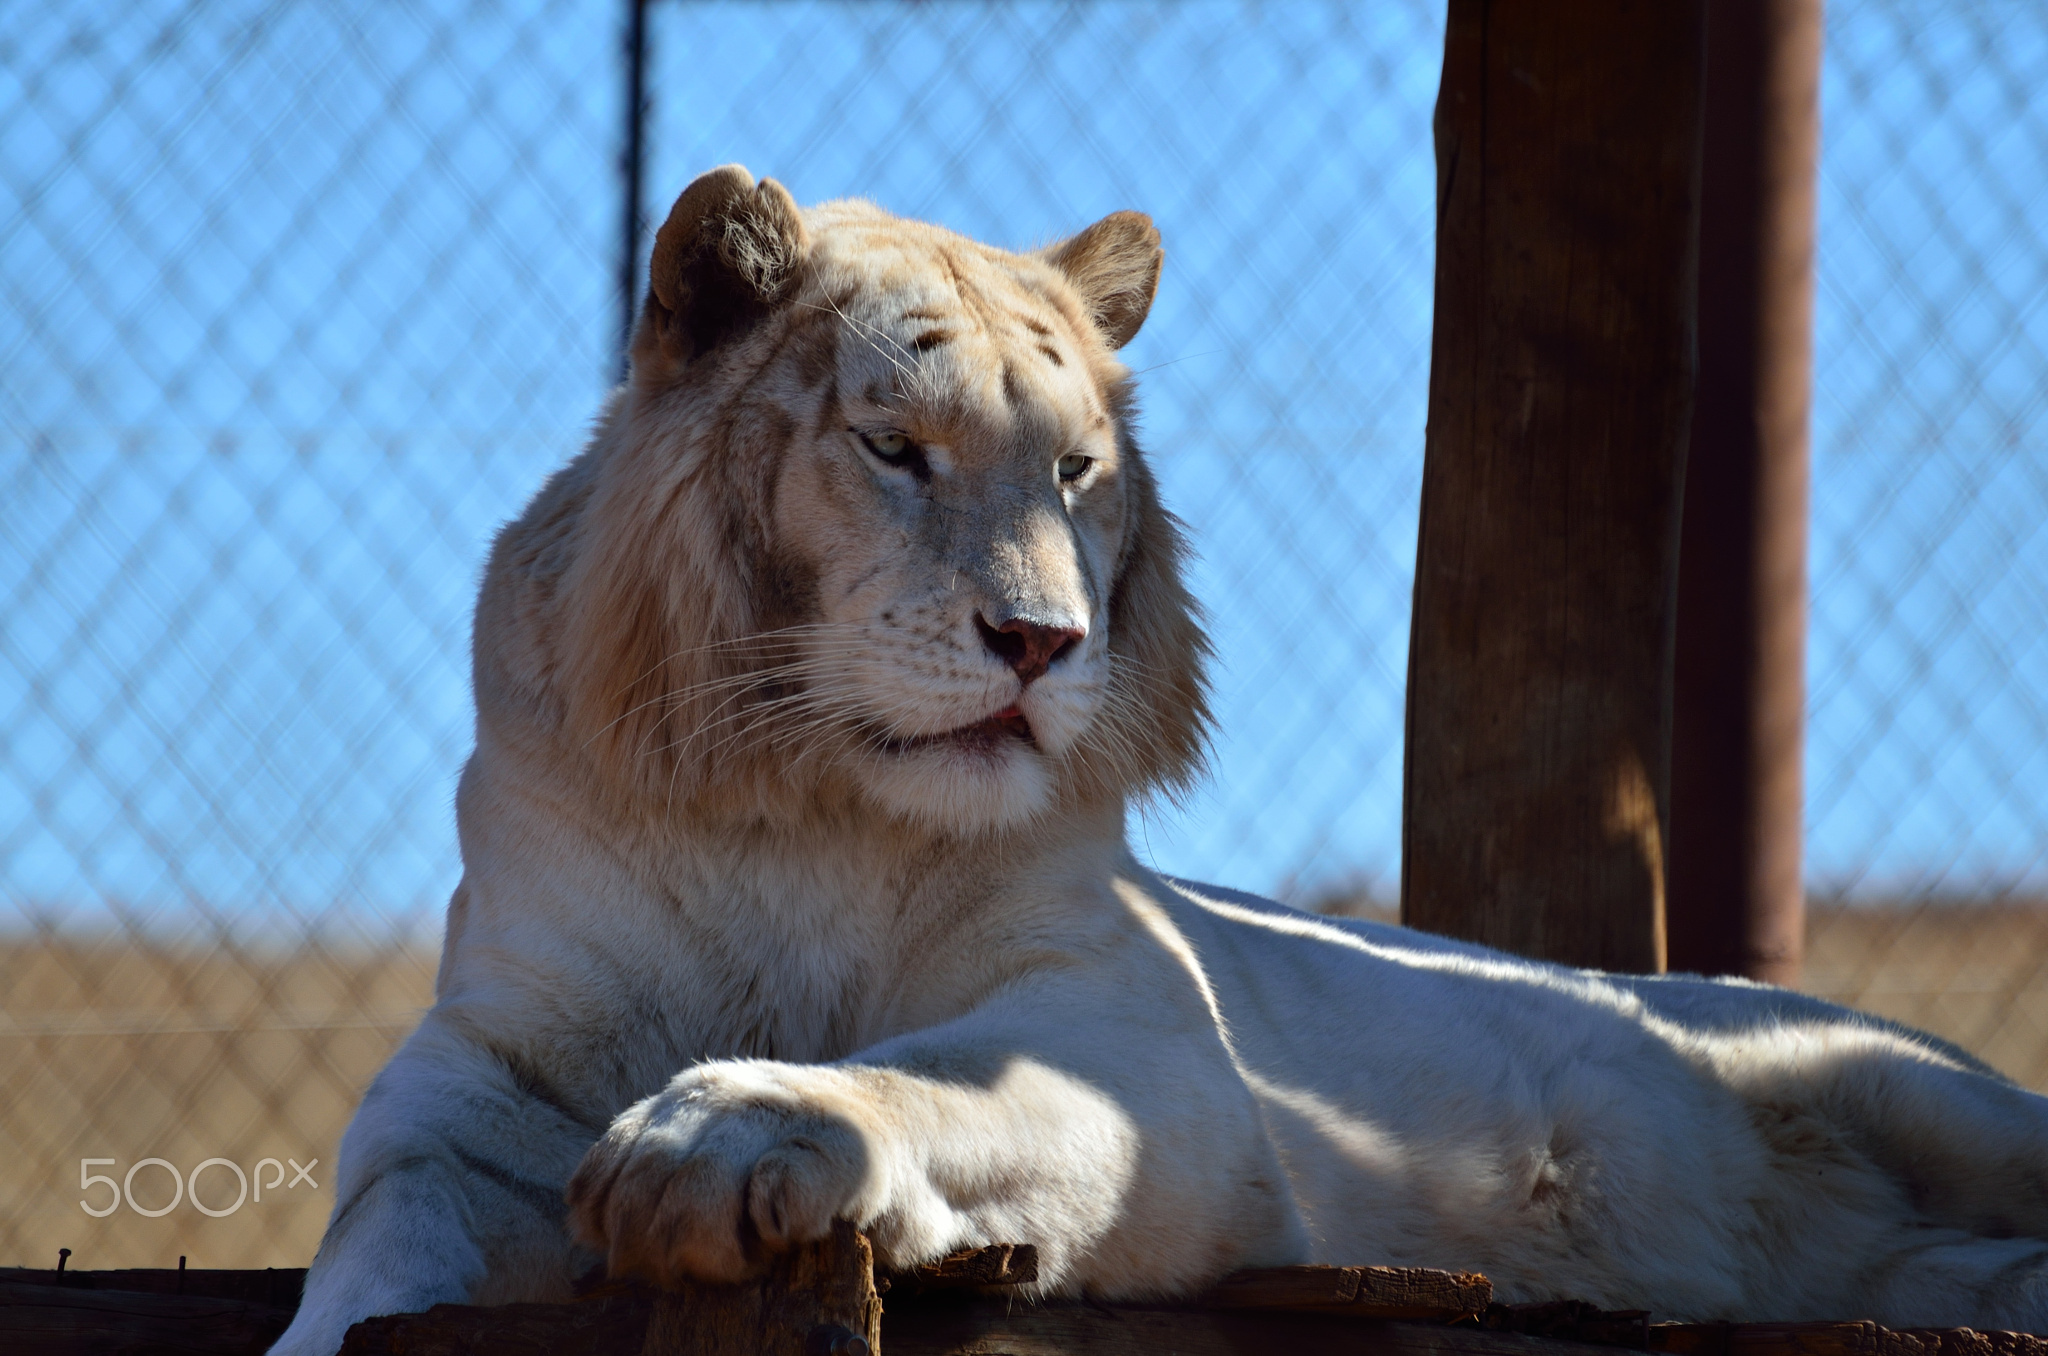tiger: (427, 176, 1954, 1308)
